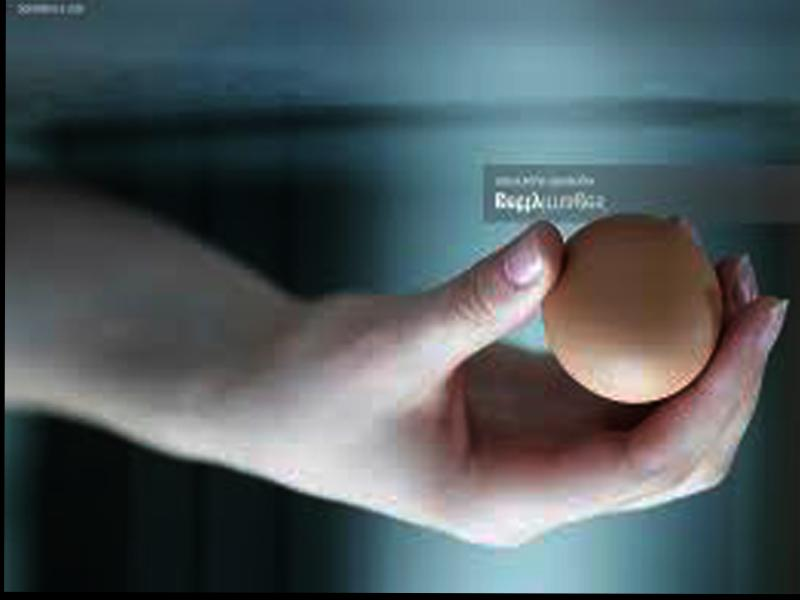Eggs: (538, 210, 722, 406)
